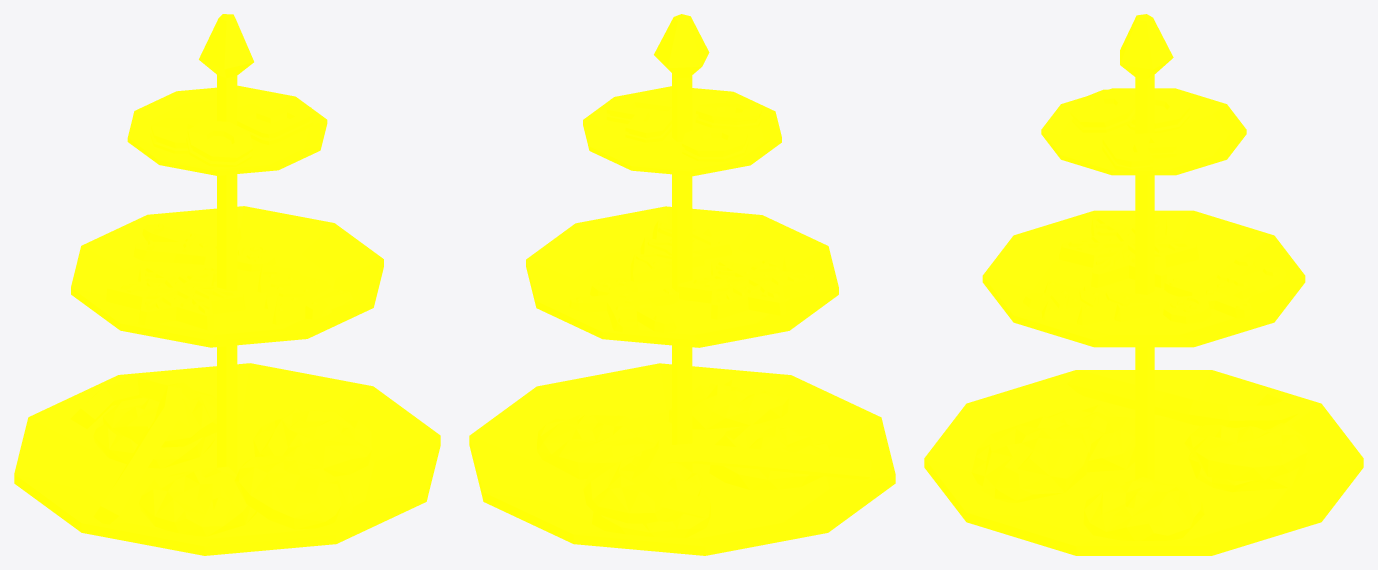
File: etagere-christmas-full.glb
3 views of the same model, side by side, from view 1: azimuth 30°, elevation 25°; view 2: azimuth 150°, elevation 25°; view 3: azimuth 270°, elevation 25° (orthographic).
Visible parts, largest first — view 1: etagere_christmas_full; view 2: etagere_christmas_full; view 3: etagere_christmas_full.
Part boxes in pixels (x1,y1,x2,y2): etagere_christmas_full: (14, 14, 440, 555); etagere_christmas_full: (469, 14, 895, 555); etagere_christmas_full: (924, 14, 1363, 555).
Bounding box in the file's own units: 0.2995 × 0.3728 × 0.315.
Materials: 1 (1 with a texture image).
